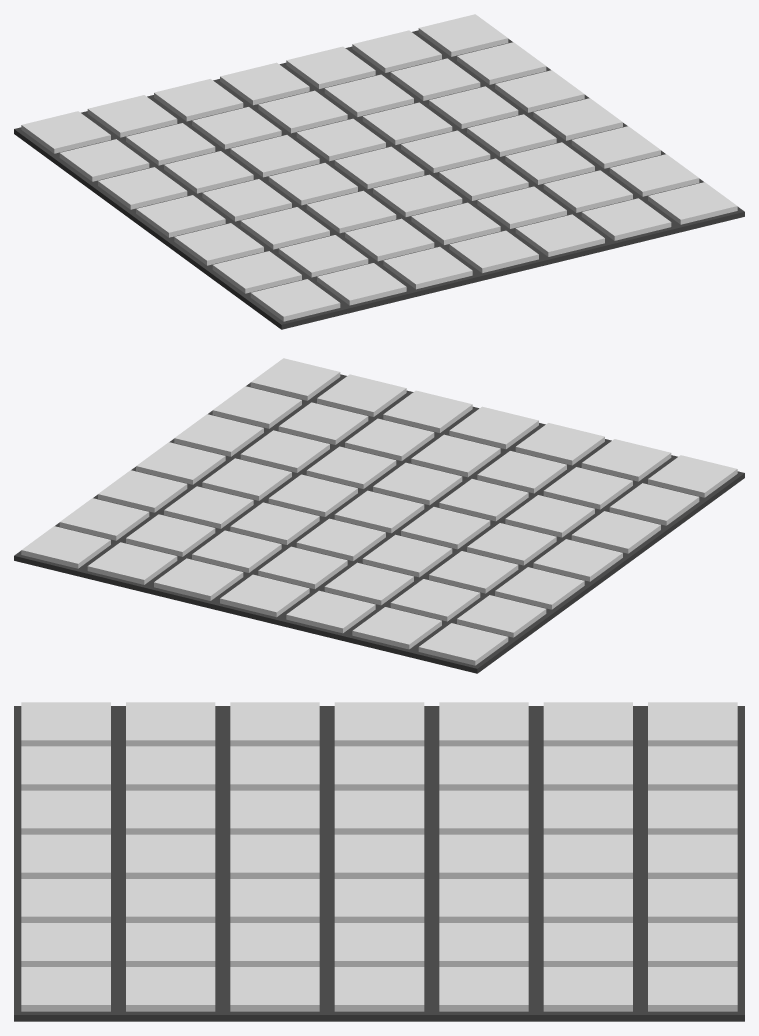
Rendered from Floor2.obj.
3 views of the same model, one above another, from view 1: azimuth 30°, elevation 25°; view 2: azimuth 150°, elevation 25°; view 3: azimuth 270°, elevation 25° (orthographic). The views are drawn at different scales.
Size of the model in its own units: 9.8 by 0.2 by 9.8.
1 material, 1 textured.
